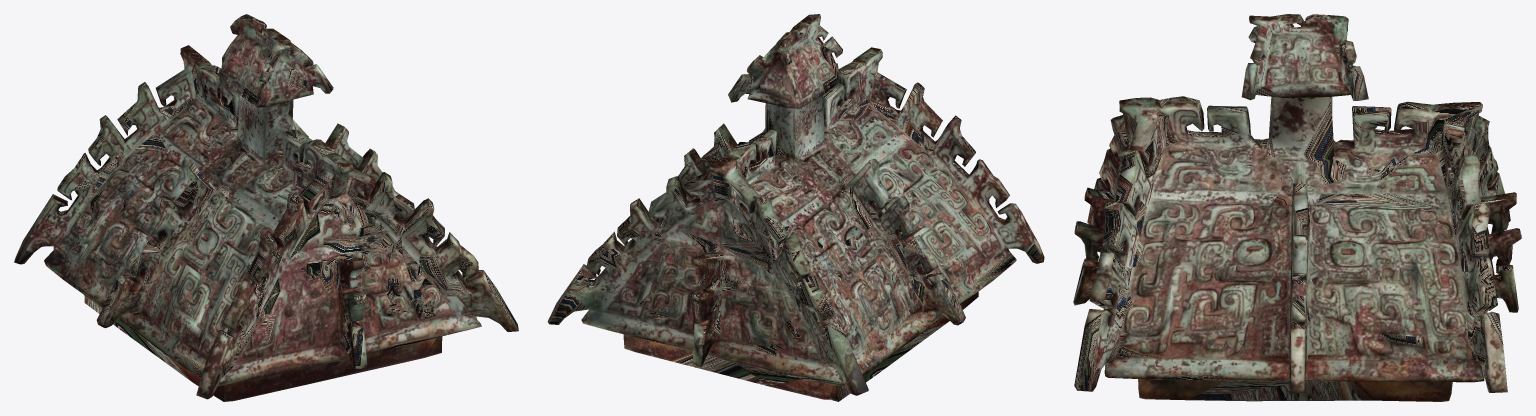
File: bronze_fangyi.glb
3 renders of one model, left to right at view 1: azimuth 30°, elevation 25°; view 2: azimuth 150°, elevation 25°; view 3: azimuth 270°, elevation 25°, orthographic. The views are drawn at different scales.
Size of the model in its own units: 0.2213 by 0.1889 by 0.233.
Materials: 1 (1 with a texture image).
